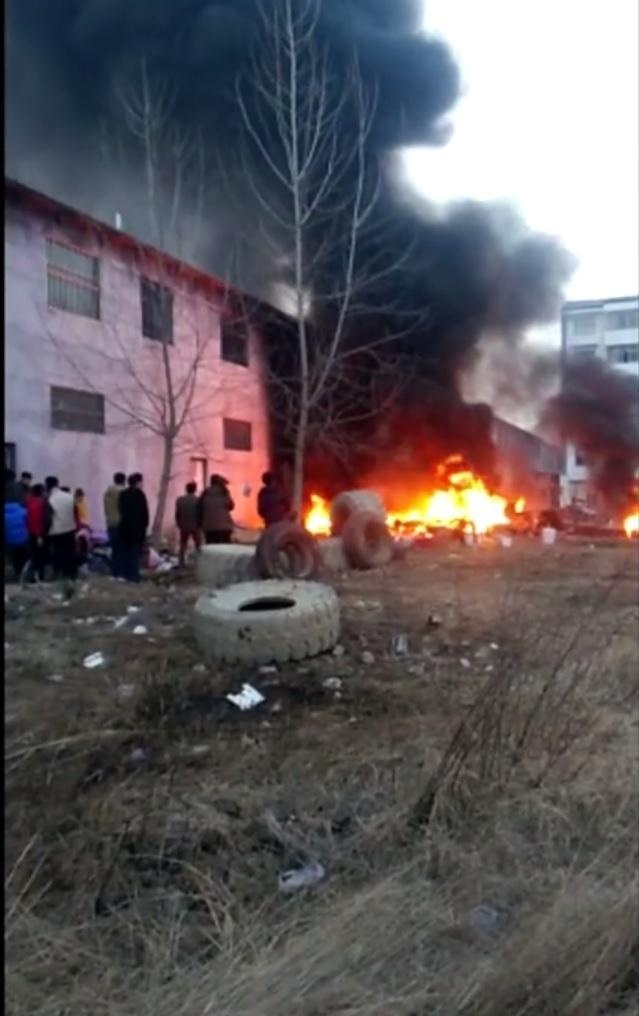fire: (384, 460, 518, 539), (299, 489, 337, 536), (619, 504, 639, 536)
